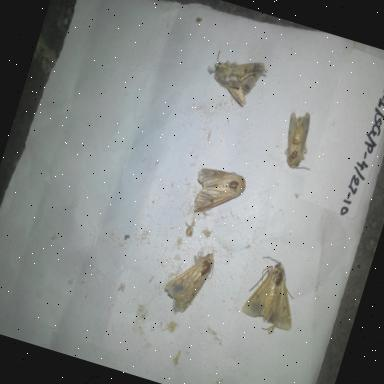abw: (233, 240, 315, 342), (150, 238, 230, 338), (197, 36, 275, 116), (182, 152, 254, 228), (271, 95, 332, 180)
